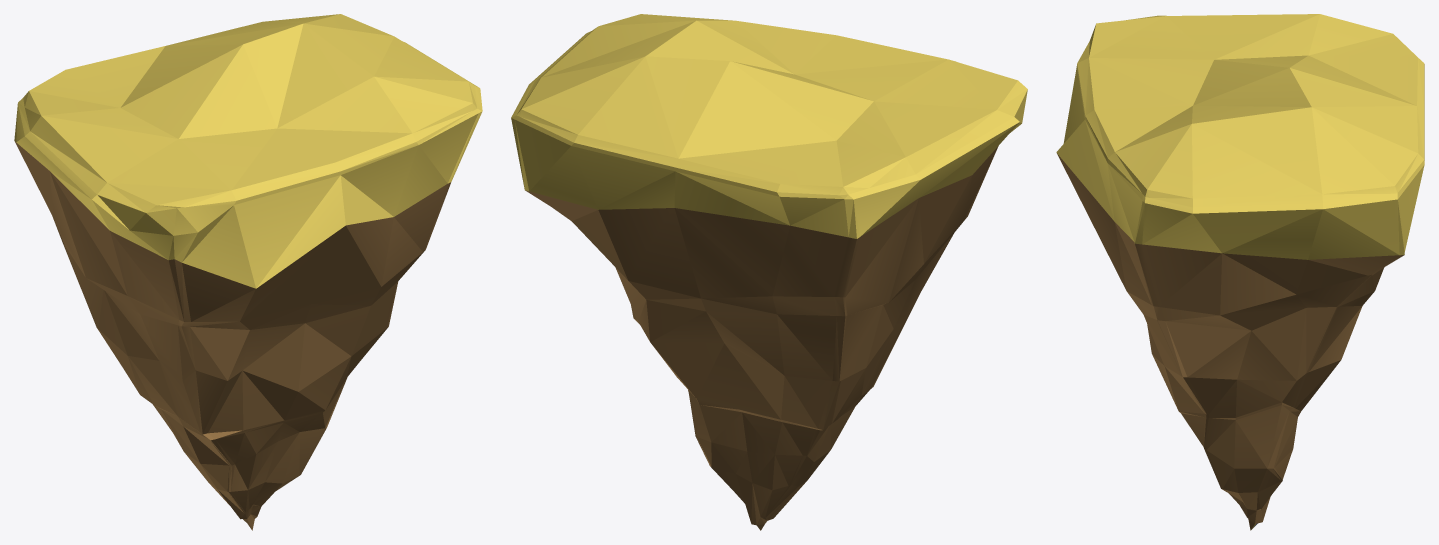
Rendered from island_sable_01_vf.FBX.
The picture shows the model from 3 angles, left to right: view 1: azimuth 30°, elevation 25°; view 2: azimuth 150°, elevation 25°; view 3: azimuth 270°, elevation 25°; orthographic projection. The views are drawn at different scales.
Parts seen in each view (by area): view 1: Box001; view 2: Box001; view 3: Box001.
Boxes of the visible parts, x1=… form: Box001: x1=14, y1=14, x2=482, y2=530; Box001: x1=511, y1=14, x2=1027, y2=530; Box001: x1=1056, y1=14, x2=1424, y2=530.
Bounding box in the file's own units: 569 × 630 × 450.
Materials: 1 (1 with a texture image).
